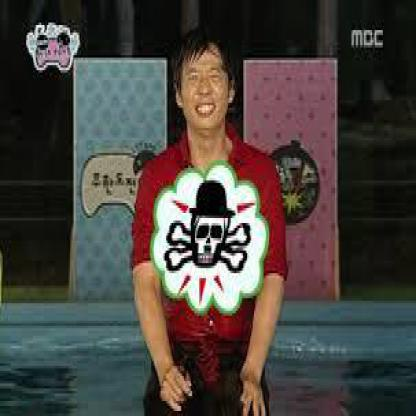skull: (162, 202, 254, 279)
